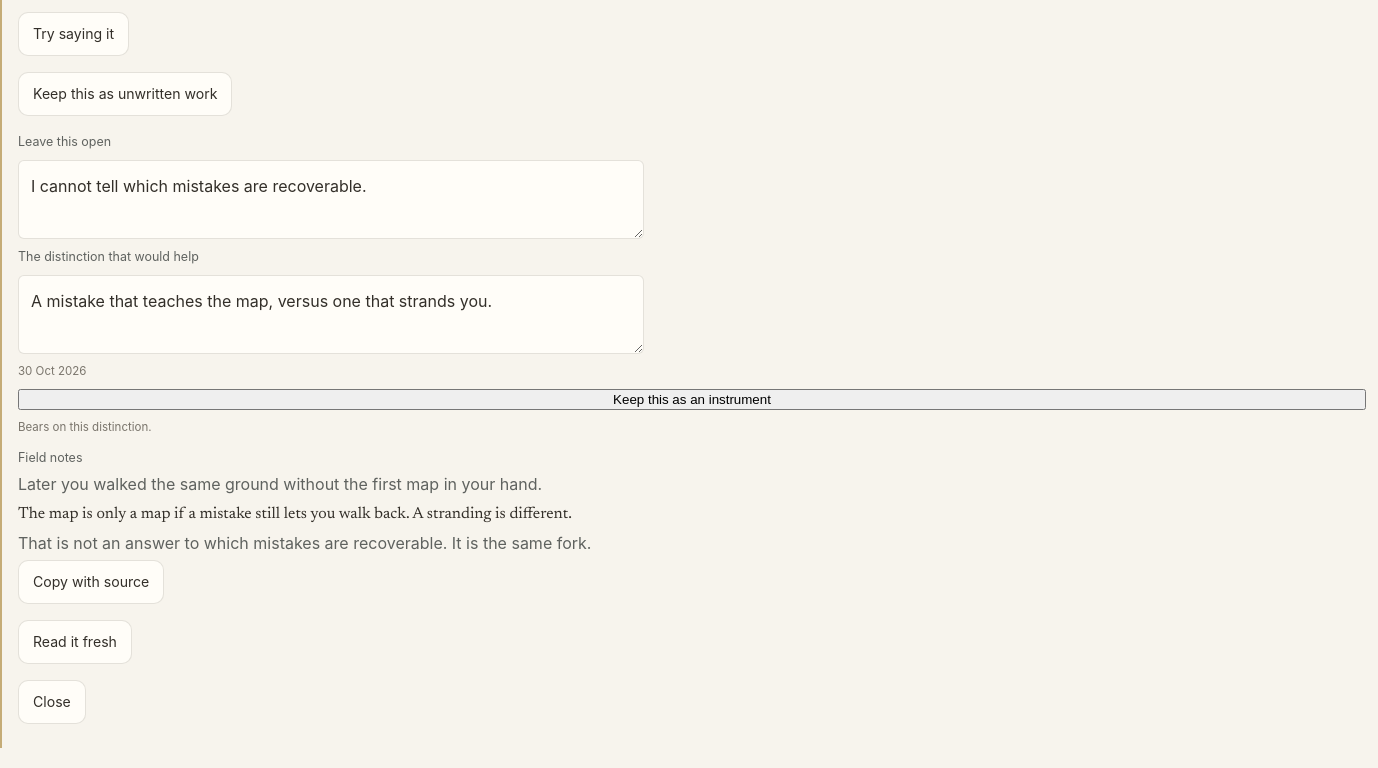
OpenSentence › keeps the bearing passage when reading fresh
(page scrolled)
What coordinates should you click on to do the following:
click the button "Read it fresh"
I would click on:
 (75, 642)
Its box is [18,620,132,664].
(page scrolled)
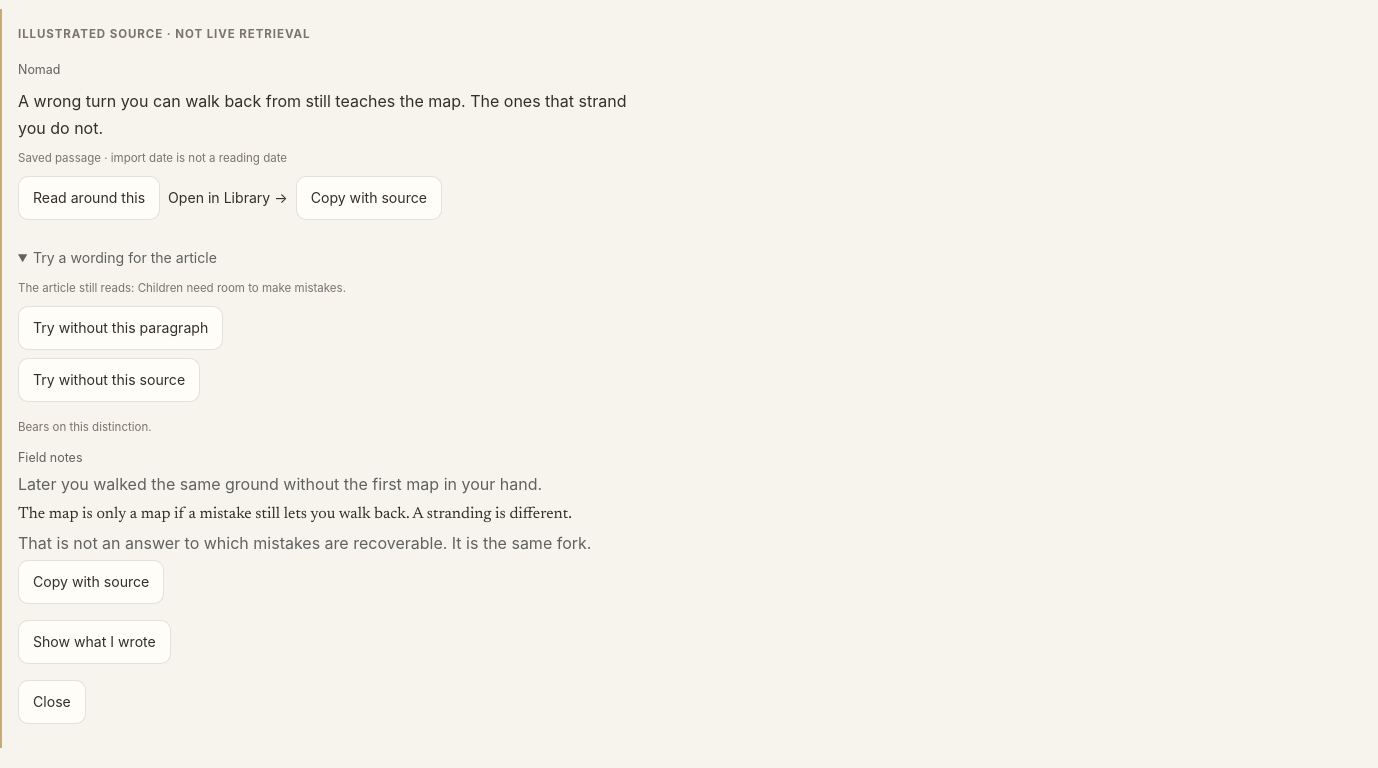
Expected: the text "Bears on this distinction." is shown, [18,420,152,434]
Expected: the label labelled "Leave this open" is gone
